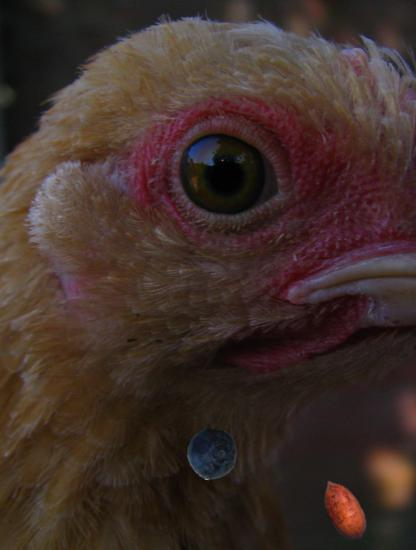Blueberry: (186, 429, 238, 481)
Nut: (311, 476, 379, 544)
